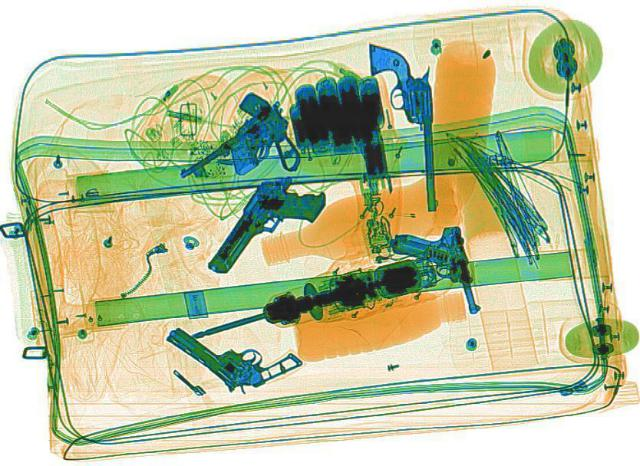Gun: (168, 108, 328, 209), (201, 173, 331, 285), (158, 298, 304, 397), (366, 39, 440, 212), (386, 224, 480, 318)
